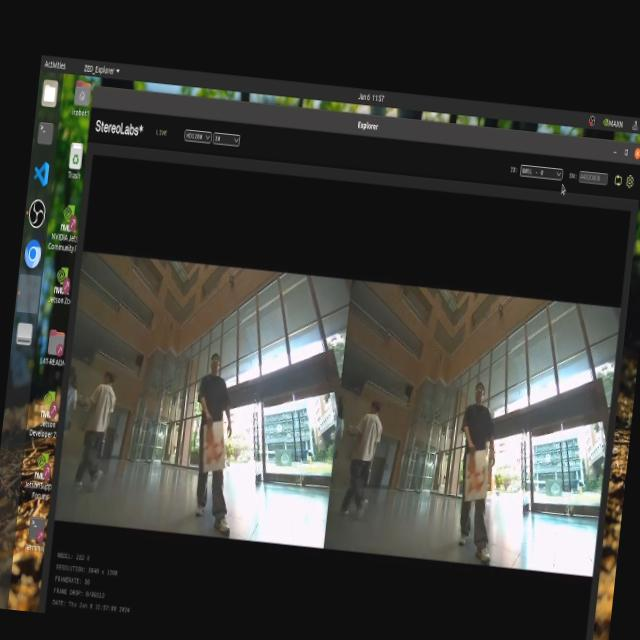red: (462, 448, 492, 498), (196, 422, 225, 468)
